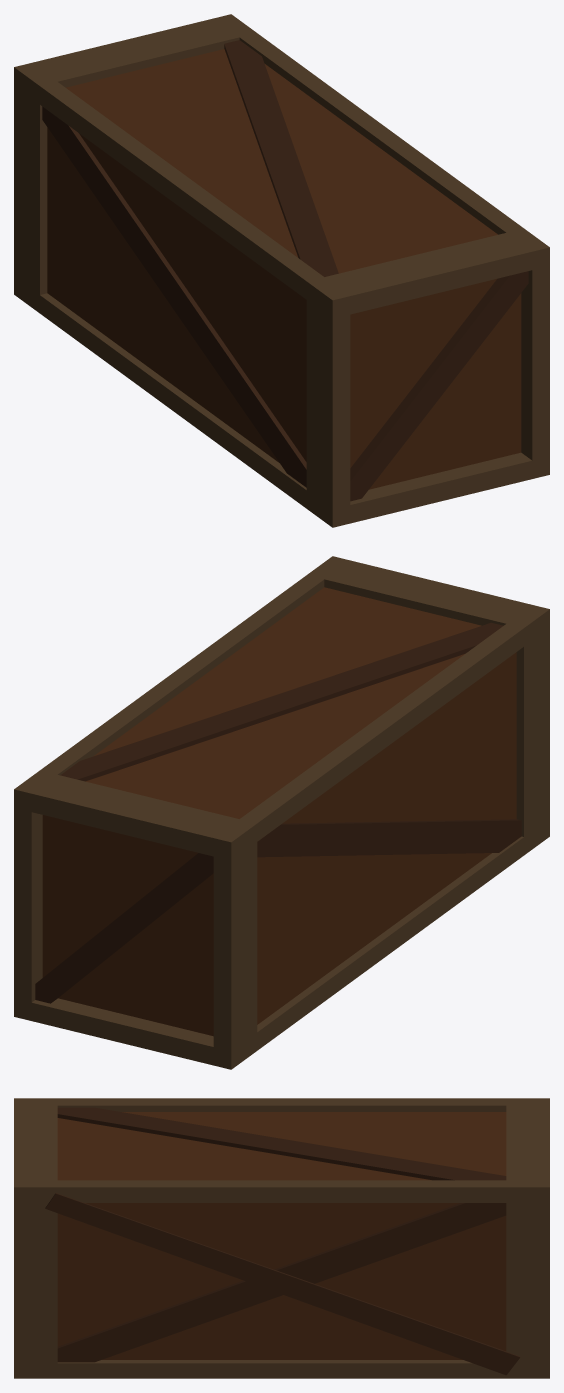
The model's file is Box_Long.fbx.
The picture shows the model from 3 angles, top to bottom: view 1: azimuth 30°, elevation 25°; view 2: azimuth 150°, elevation 25°; view 3: azimuth 270°, elevation 25°; orthographic projection. The views are drawn at different scales.
Parts seen in each view (by area): view 1: Box_Long; view 2: Box_Long; view 3: Box_Long.
Part boxes in pixels (x1,y1,x2,y2): Box_Long: (14, 14, 549, 527); Box_Long: (14, 556, 549, 1069); Box_Long: (14, 1098, 549, 1378).
Bounding box in the file's own units: 70.62 × 70 × 178.
